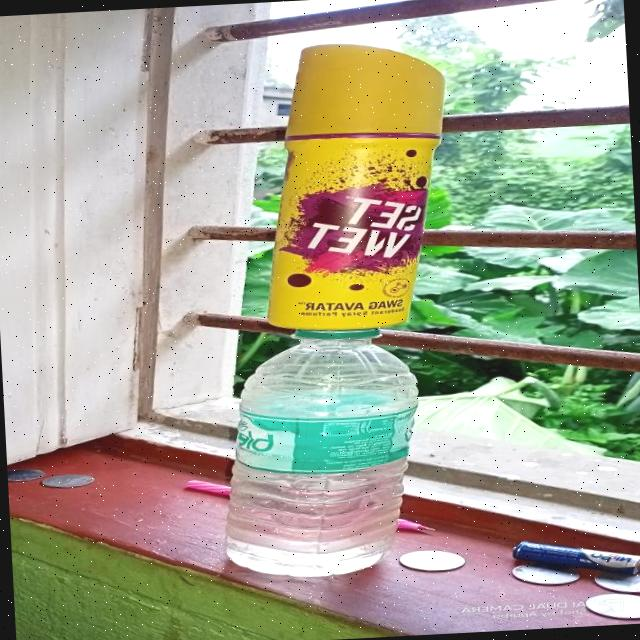bottle: (197, 318, 440, 586)
label: (210, 396, 442, 478)
